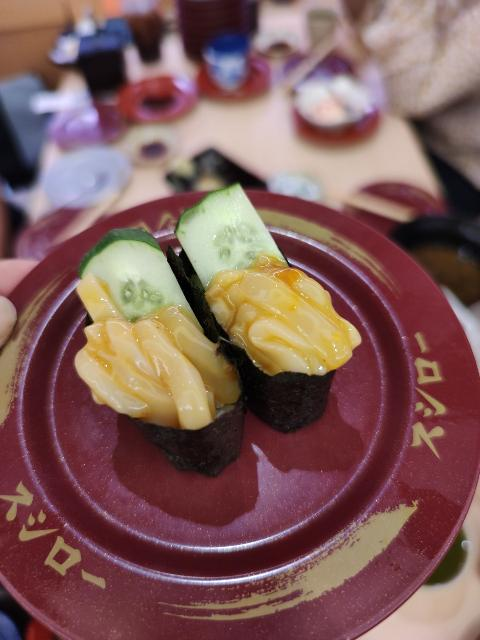janred: (17, 226, 459, 620), (285, 64, 389, 164), (107, 75, 203, 132), (30, 208, 108, 262), (351, 177, 439, 222), (195, 59, 272, 101), (60, 98, 127, 146)
janwhite: (52, 143, 127, 211)
